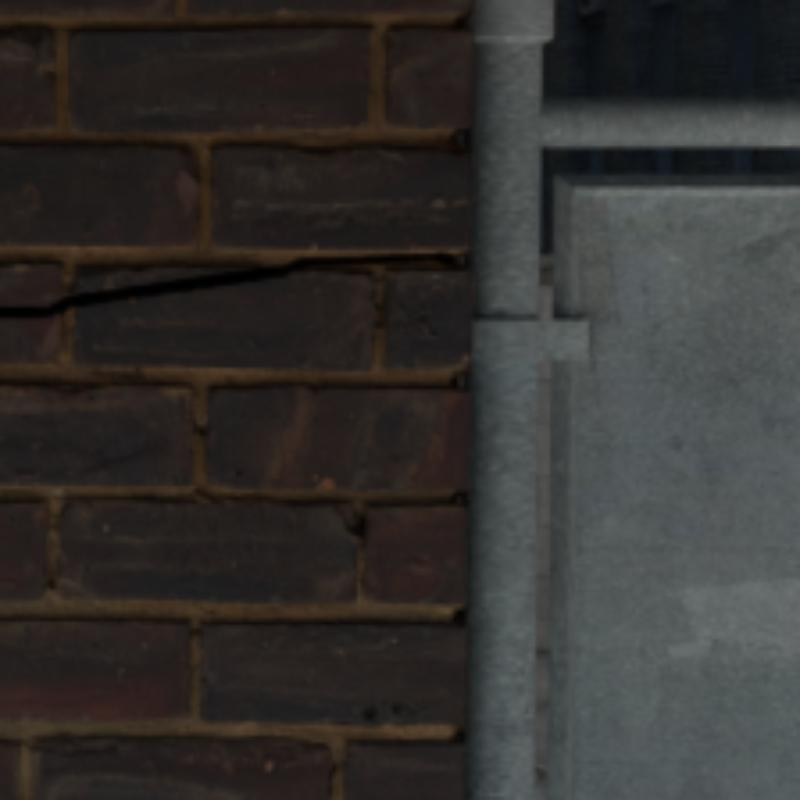pothole: (0, 250, 454, 314)
